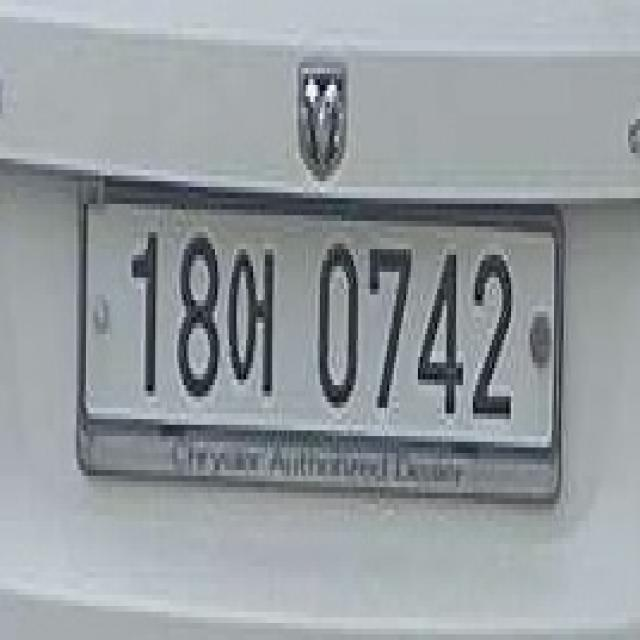0: (310, 232, 360, 419)
1: (124, 215, 165, 414)
2: (470, 249, 516, 436)
4: (413, 244, 466, 431)
7: (360, 232, 410, 430)
8: (170, 226, 222, 414)
eo: (224, 232, 277, 413)
license_plate: (72, 176, 566, 521)
